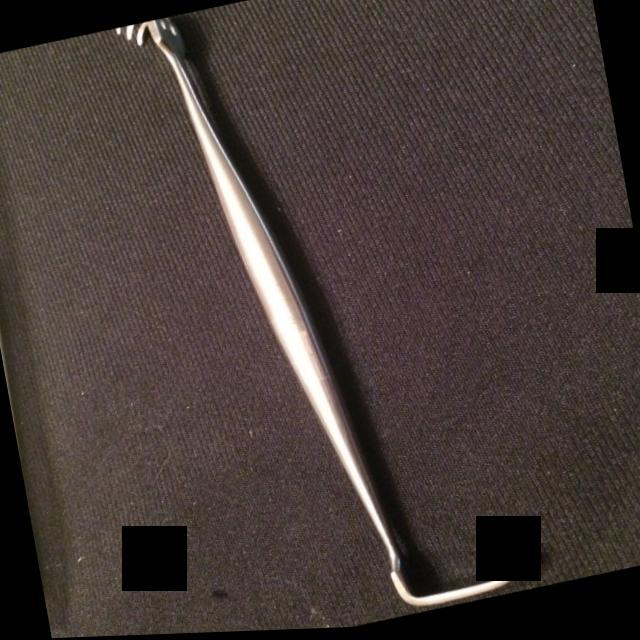Senn Retractor: (99, 0, 549, 637)
